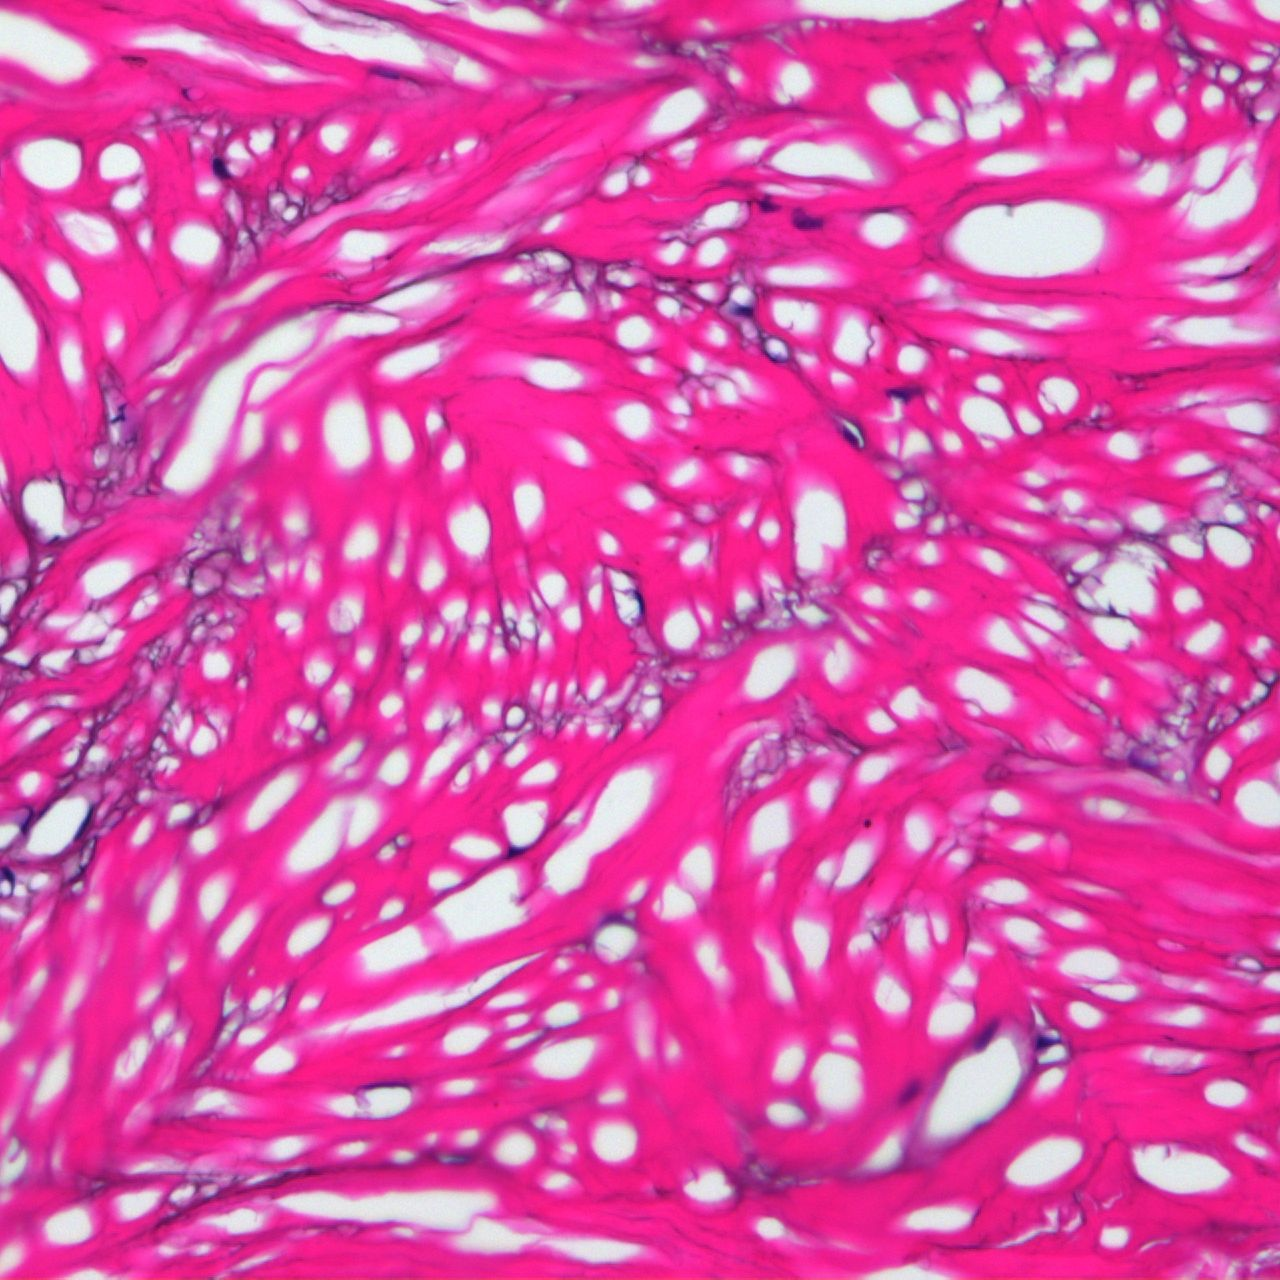nucleus-HE: (896, 1076, 924, 1107), (73, 807, 96, 840), (974, 1020, 998, 1051), (840, 425, 859, 447), (1034, 1032, 1056, 1050), (212, 159, 228, 180), (793, 218, 822, 229), (889, 387, 908, 401), (735, 306, 753, 317), (760, 201, 772, 210)
